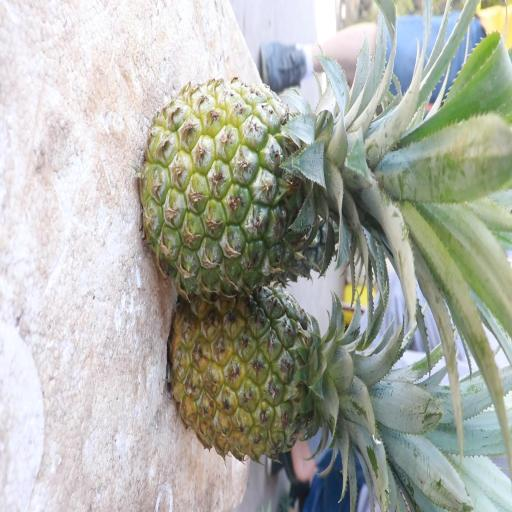------------------------------: (144, 70, 358, 292)
Pineapple - v8 v1: (170, 288, 355, 460)
